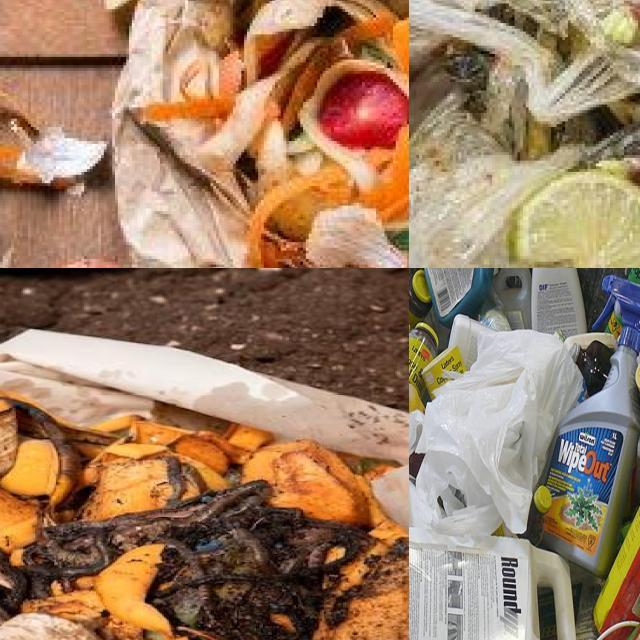Garbage: (0, 393, 409, 640), (409, 268, 640, 640), (157, 0, 409, 268), (409, 0, 640, 268)
Glass_bottle: (565, 338, 615, 396), (409, 323, 439, 397), (409, 270, 432, 327)
Plastic_Bag: (416, 329, 581, 536)
Plastic_Container: (542, 274, 640, 575), (409, 528, 575, 640), (425, 268, 494, 326), (531, 268, 586, 338), (493, 268, 531, 329), (520, 487, 552, 546), (609, 314, 620, 337)
Tin_box: (593, 504, 640, 633)
contaminated_waste: (409, 0, 640, 268)
